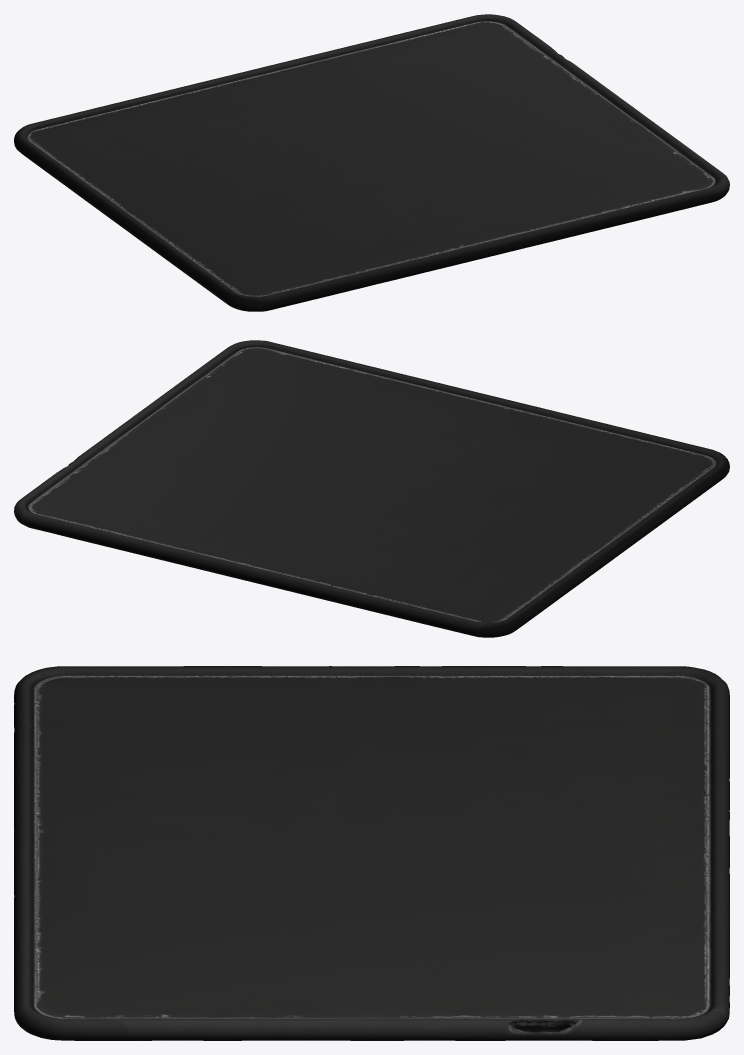
File: mousepadbake.fbx
3 views of the same model, one above another, from view 1: azimuth 30°, elevation 25°; view 2: azimuth 150°, elevation 25°; view 3: azimuth 270°, elevation 25° (orthographic). The views are drawn at different scales.
Visible parts, largest first — view 1: mousepad_low; view 2: mousepad_low; view 3: mousepad_low.
Boxes of the visible parts, <box> form: mousepad_low: <box>14,14,729,311</box>; mousepad_low: <box>14,340,729,637</box>; mousepad_low: <box>14,666,729,1040</box>.
Bounding box in the file's own units: 1.91 × 0.0518 × 1.6.
